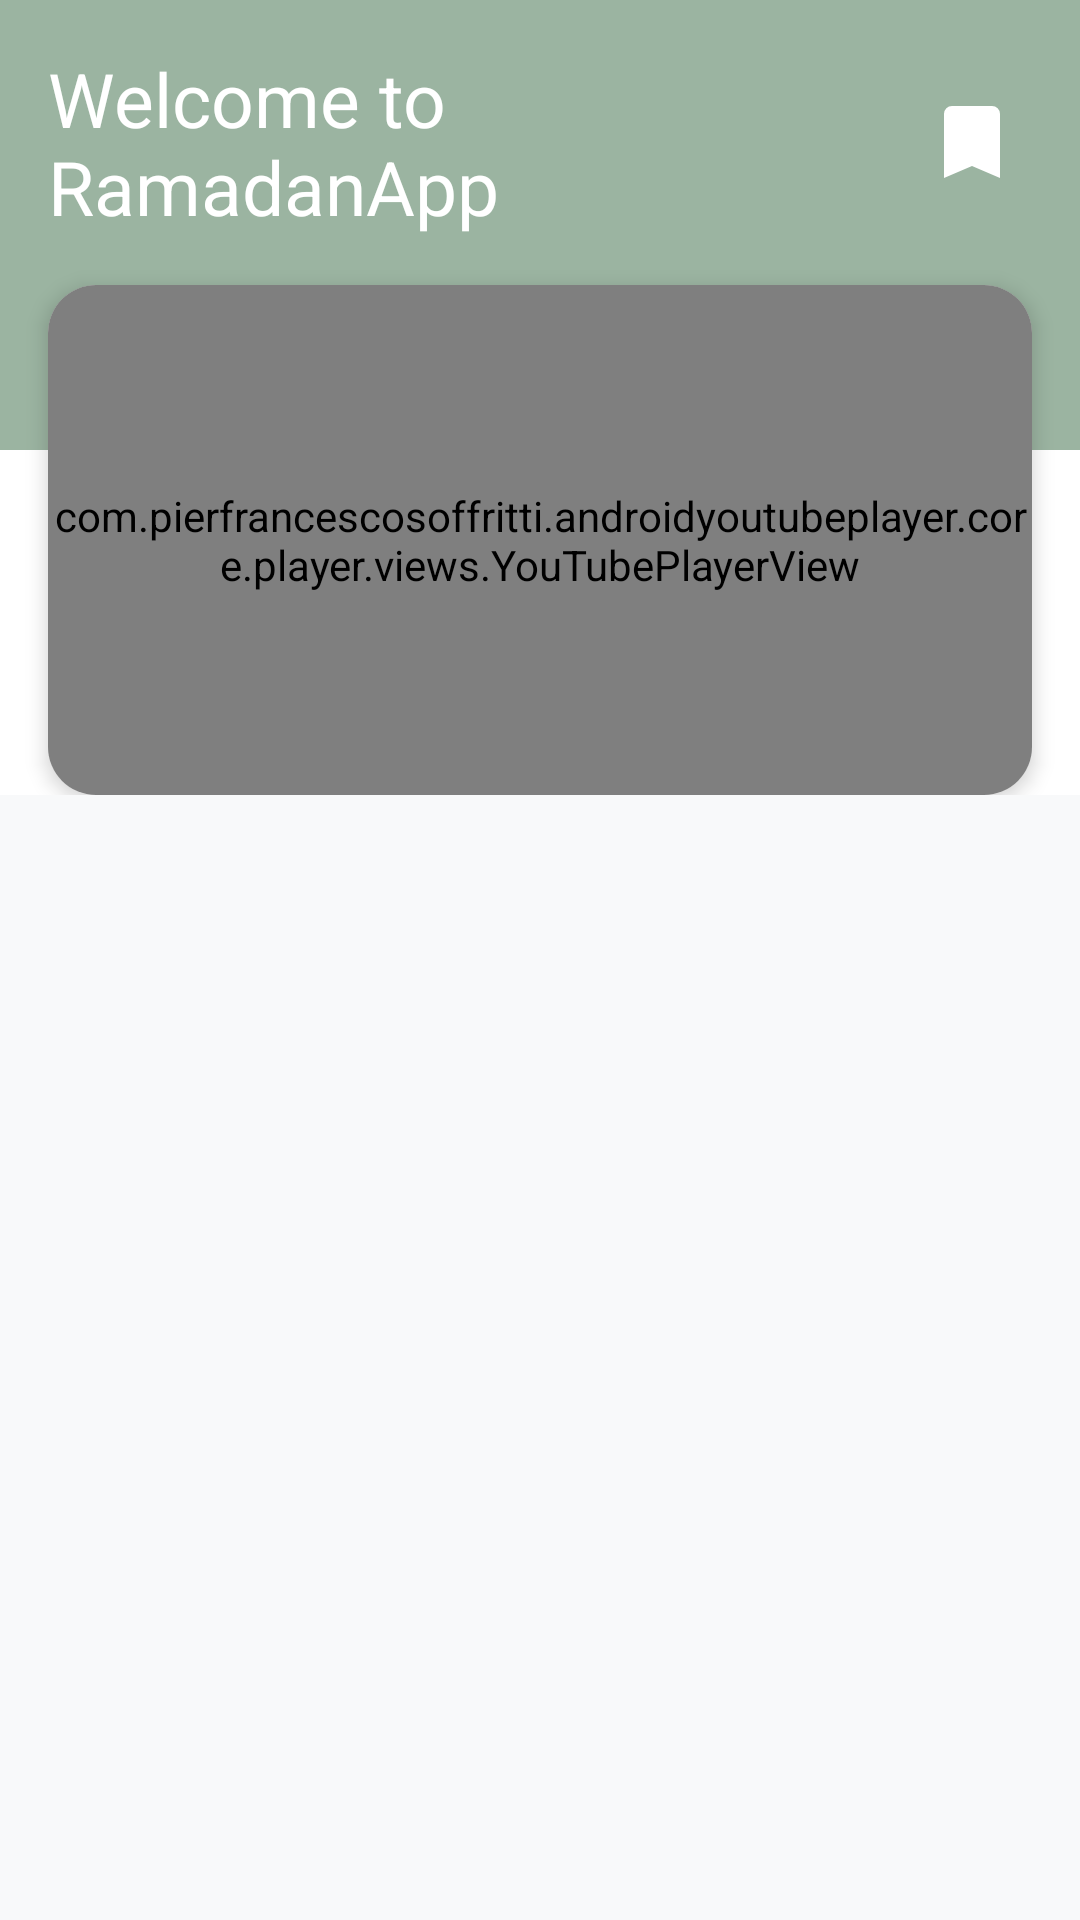

Point at icon controls on the screen. Image size 1080px×1920px, points as (x=x, y=y).
bookmark: (x=972, y=142)
